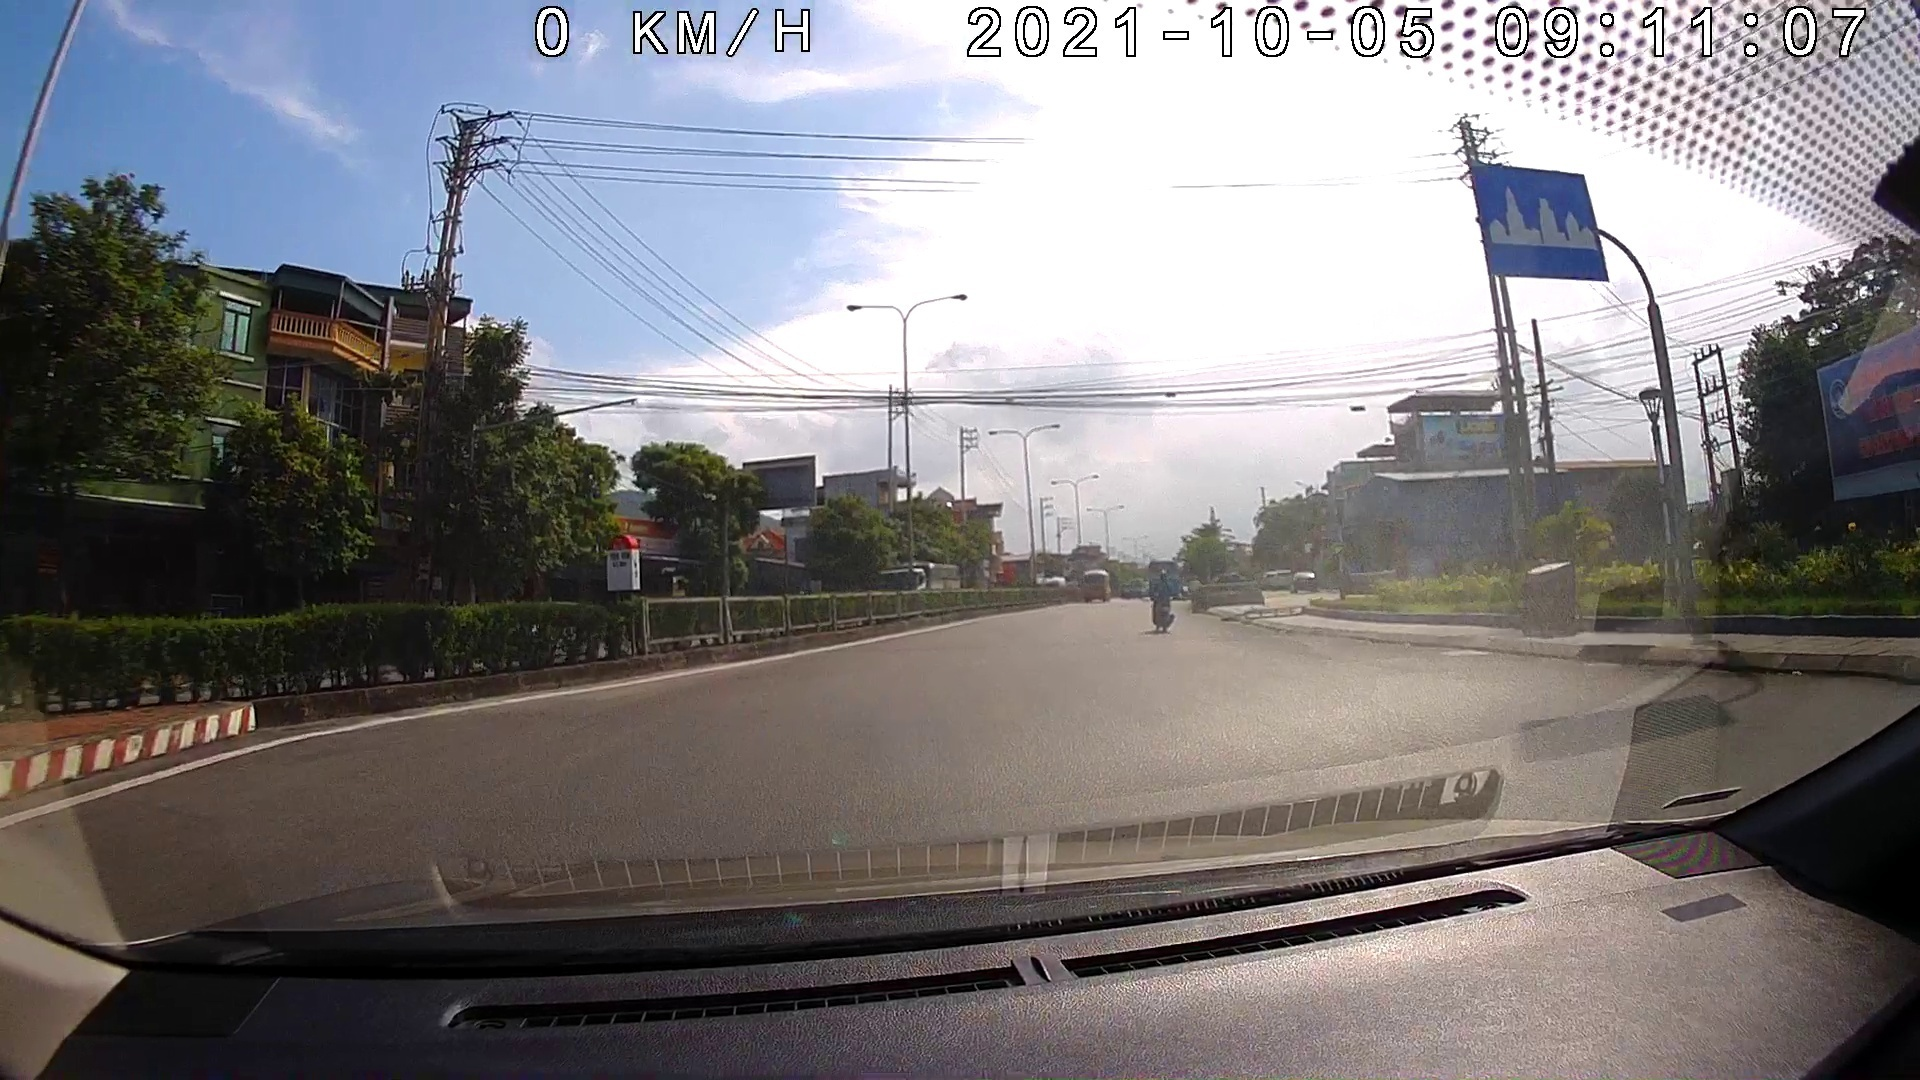Bien khac: (1468, 161, 1613, 286)
